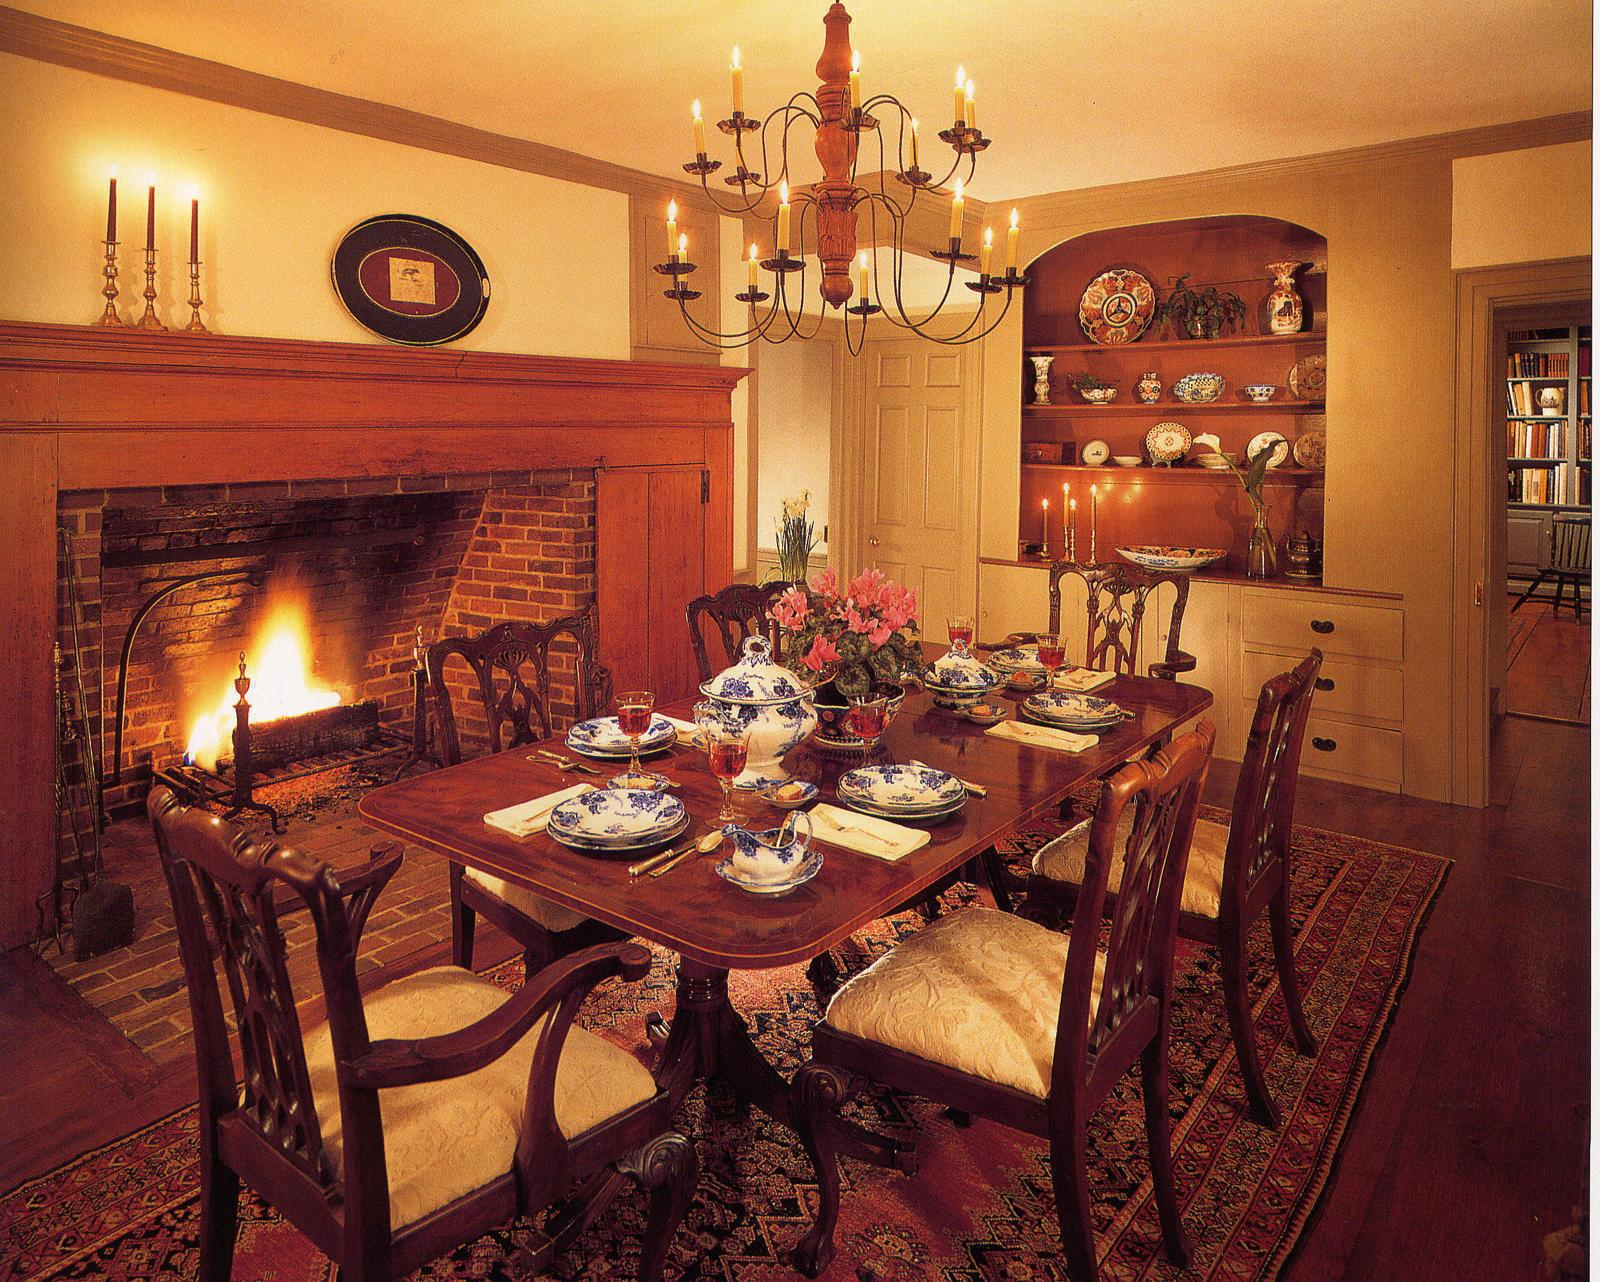Puerta: (843, 328, 976, 632)
